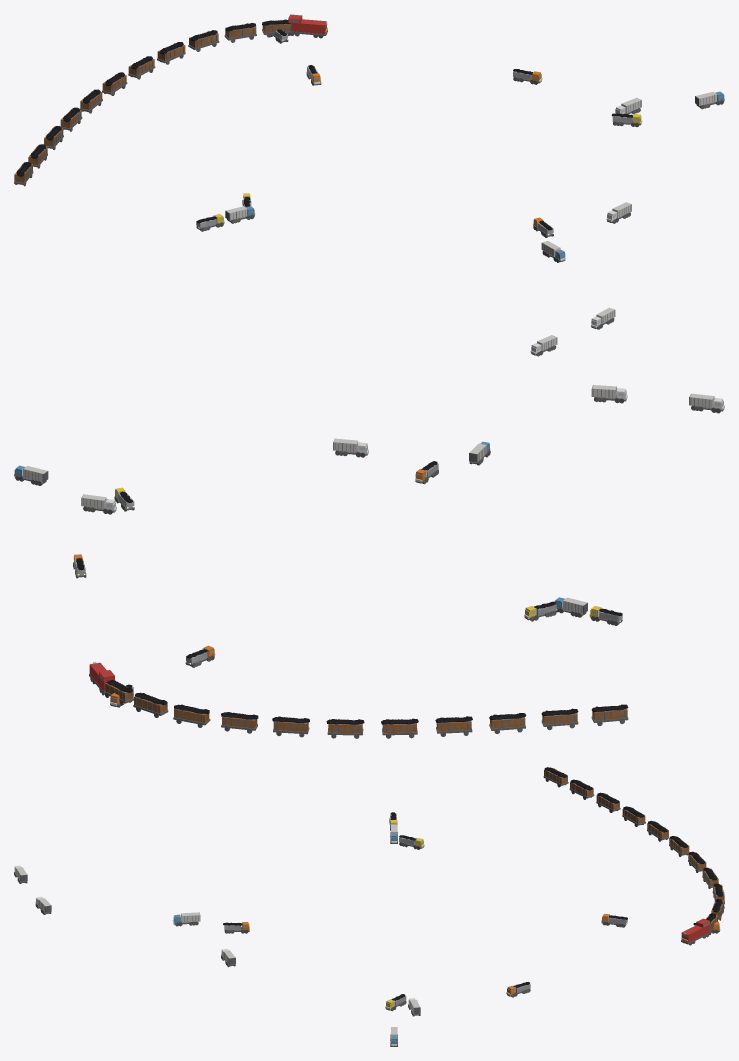
Rendered from Vehicles_P2.fbx.
3 renders of one model, top to bottom at view 1: azimuth 30°, elevation 25°; view 2: azimuth 150°, elevation 25°; view 3: azimuth 270°, elevation 25°, orthographic. The views are drawn at different scales.
Visible parts, largest first — view 1: train; view 2: wagon.004, wagon.007, wagon.009, wagon.003, wagon.010, wagon.005, wagon.008, wagon.002, wagon.006, wagon.001; view 3: train.
Boxes of the visible parts, box(x1,y1,x2,y2) form: train: box(287, 14, 327, 38); wagon.004: box(272, 716, 309, 737); wagon.007: box(435, 716, 472, 736); wagon.009: box(541, 708, 578, 730); wagon.003: box(221, 712, 258, 733); wagon.010: box(591, 704, 628, 725); wagon.005: box(326, 719, 364, 738); wagon.008: box(489, 713, 526, 733); wagon.002: box(173, 704, 210, 727); wagon.006: box(381, 718, 418, 738); wagon.001: box(133, 692, 168, 717); train: box(681, 918, 711, 945).
Size of the model in its own units: 24416 by 725 by 27322.
